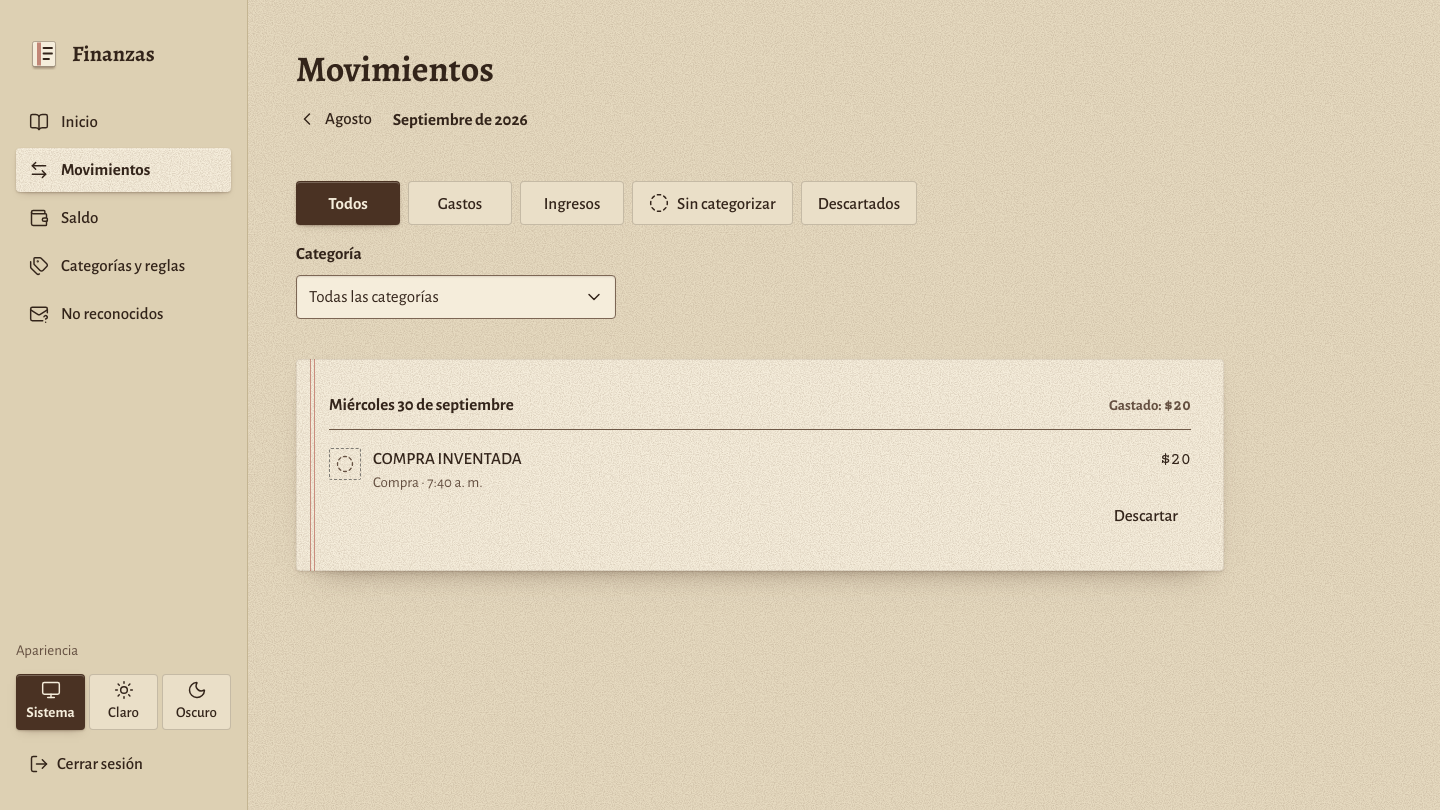
Scenario: una respuesta tardía no muestra el resultado en otro filtro y bloquea el doble envío
Click the button with aria-label "Descartar COMPRA INVENTADA" at (1146, 516), box [1101,494,1191,538]
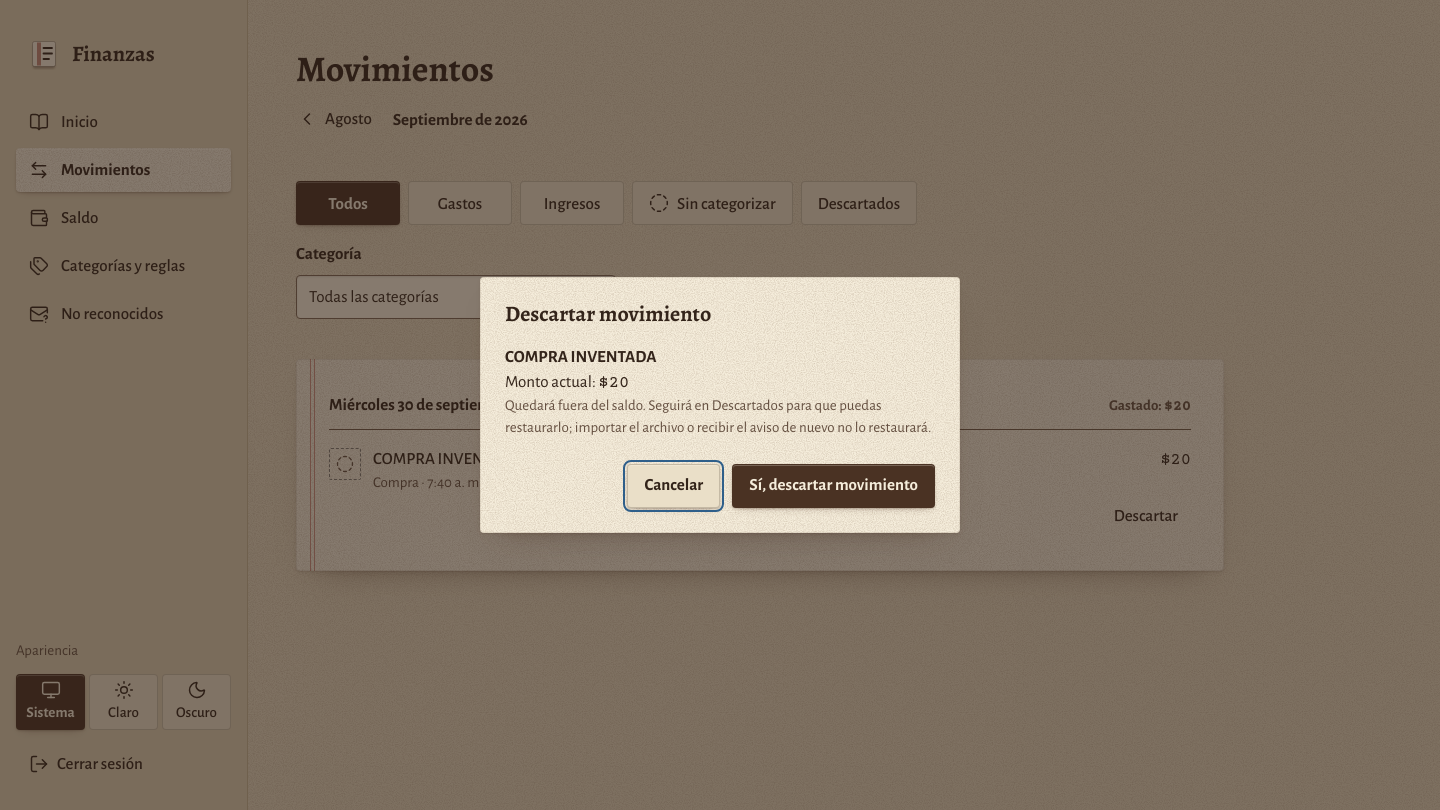
Click the button "Sí, descartar movimiento" at (834, 486), box [732,464,935,508]
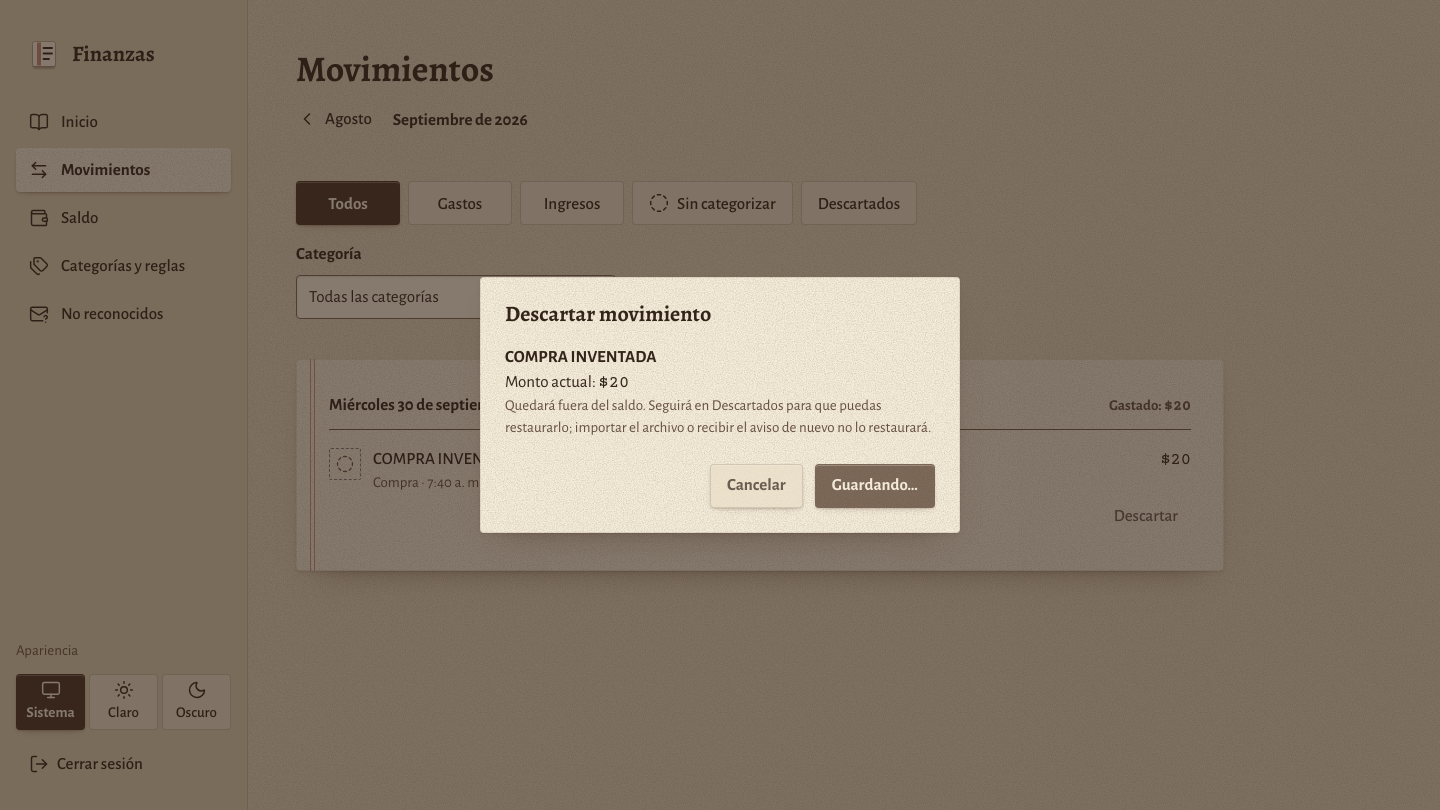
Expected: the button "Guardando…" is disabled
Click the button "Guardando…" at (875, 486), box [815,464,935,508]
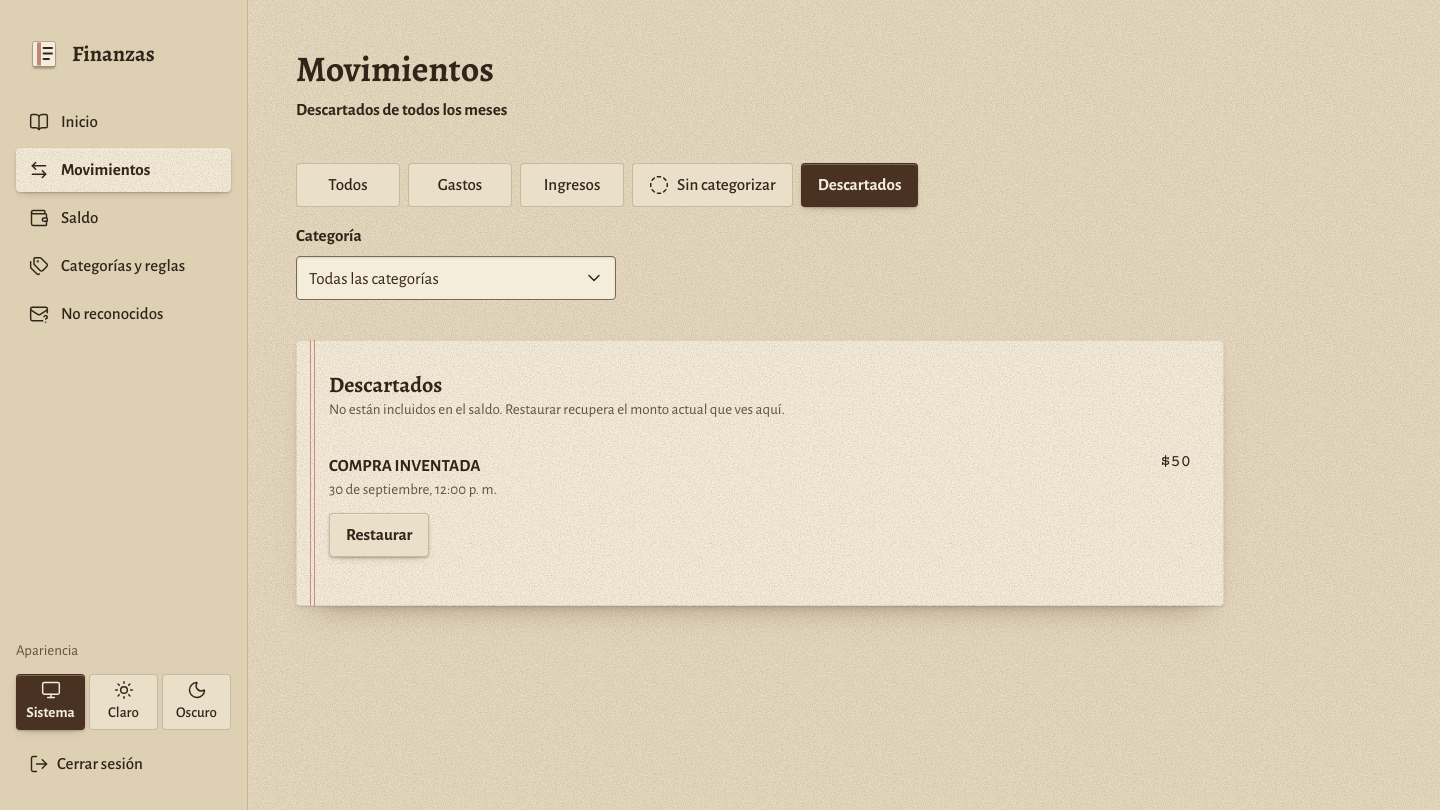
Expected: the list named "Movimientos descartados" is shown, [329,437,1191,573]
